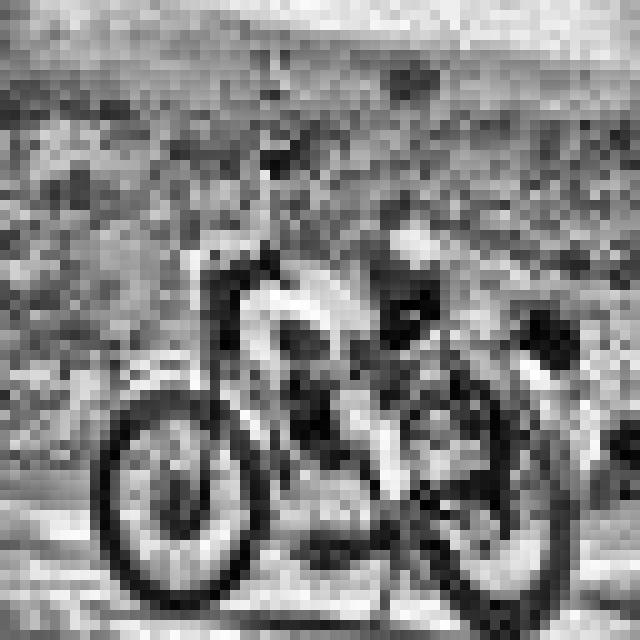mopeds: (93, 218, 614, 634)
